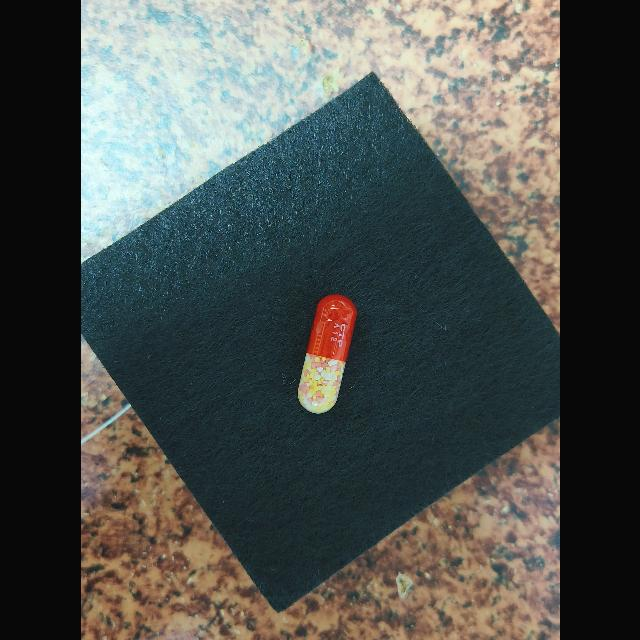Intact Capsule: (297, 294, 356, 414)
